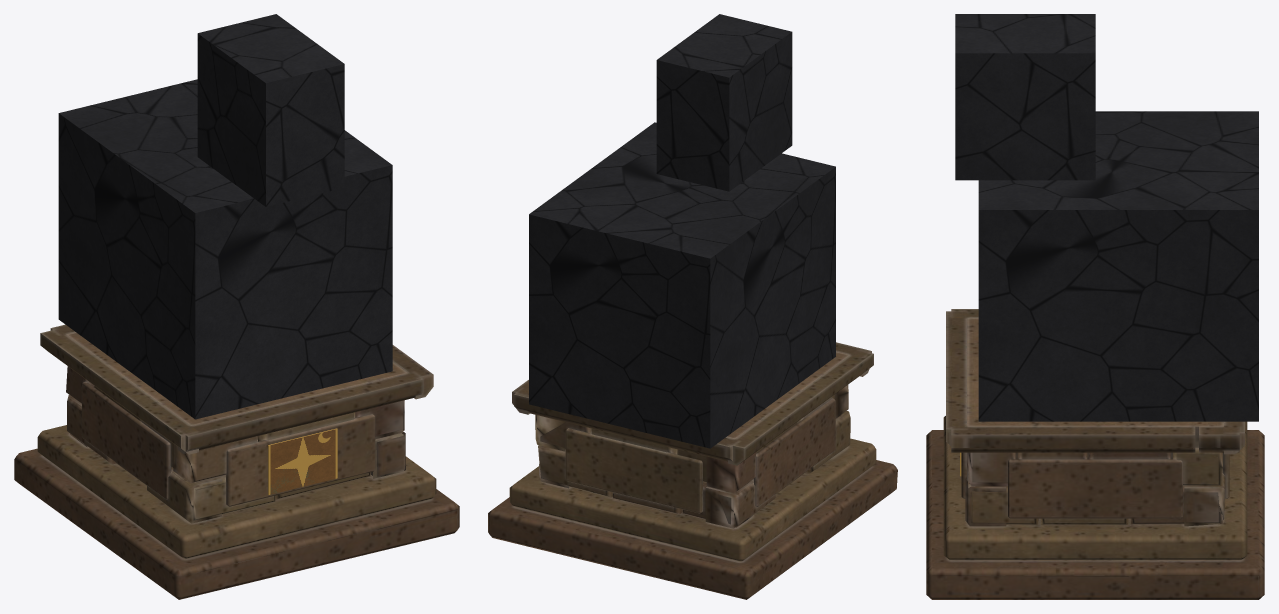
The model's file is StatuaDrago.fbx.
3 renders of one model, left to right at view 1: azimuth 30°, elevation 25°; view 2: azimuth 150°, elevation 25°; view 3: azimuth 270°, elevation 25°, orthographic. The views are drawn at different scales.
Parts seen in each view (by area): view 1: PLACEHOLDER_StatuaDrago, StatuaDrago_Piedistallo, StatuaDrago_Targa_Cosmico; view 2: PLACEHOLDER_StatuaDrago, StatuaDrago_Piedistallo; view 3: PLACEHOLDER_StatuaDrago, StatuaDrago_Piedistallo.
Part boxes in pixels (x1=…): PLACEHOLDER_StatuaDrago: x1=58, y1=14, x2=392, y2=419; StatuaDrago_Piedistallo: x1=14, y1=324, x2=459, y2=599; StatuaDrago_Targa_Cosmico: x1=268, y1=428, x2=337, y2=494; PLACEHOLDER_StatuaDrago: x1=529, y1=14, x2=835, y2=448; StatuaDrago_Piedistallo: x1=488, y1=342, x2=897, y2=599; PLACEHOLDER_StatuaDrago: x1=955, y1=14, x2=1258, y2=421; StatuaDrago_Piedistallo: x1=926, y1=309, x2=1264, y2=599.
Size of the model in its own units: 290 by 470 by 290.
